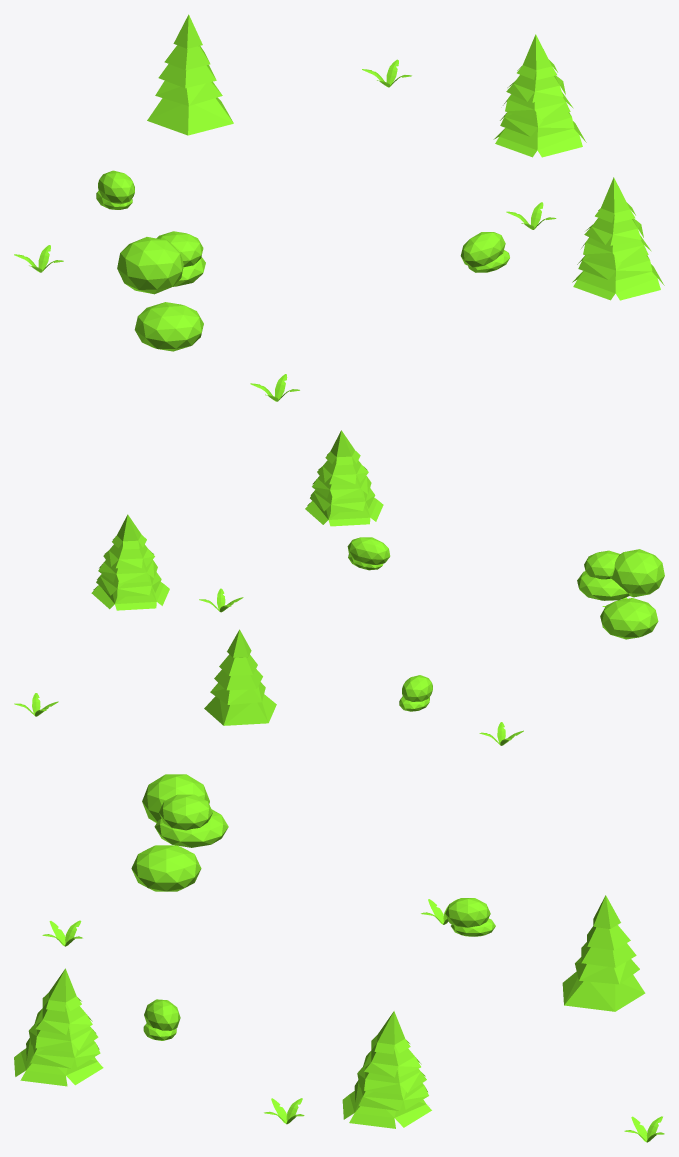
Rendered from bushes.obj.
The picture shows the model from 3 angles, top to bottom: view 1: azimuth 30°, elevation 25°; view 2: azimuth 150°, elevation 25°; view 3: azimuth 270°, elevation 25°; orthographic projection. The views are drawn at different scales.
Parts seen in each view (by area): view 1: Cone.002, Cone.004, Cone, Icosphere.003, Icosphere, Icosphere.005, Icosphere.007, Icosphere.002; view 2: Cone.002, Cone.004, Cone, Icosphere.003, Icosphere, Icosphere.001, Icosphere.005, Icosphere.002, Icosphere.007; view 3: Cone.002, Cone.004, Cone, Icosphere, Icosphere.003, Icosphere.002, Icosphere.001, Icosphere.007, Icosphere.005.
Boxes of the visible parts, bbox=[...] form: Cone.002: bbox=[572, 177, 664, 300]; Cone.004: bbox=[493, 34, 586, 157]; Cone: bbox=[147, 14, 233, 135]; Icosphere.003: bbox=[117, 237, 183, 294]; Icosphere: bbox=[134, 302, 203, 351]; Icosphere.005: bbox=[460, 232, 505, 267]; Icosphere.007: bbox=[98, 170, 134, 204]; Icosphere.002: bbox=[156, 231, 203, 267]; Cone.002: bbox=[305, 430, 383, 526]; Cone.004: bbox=[91, 514, 169, 610]; Cone: bbox=[204, 629, 276, 725]; Icosphere.003: bbox=[611, 549, 664, 597]; Icosphere: bbox=[600, 598, 658, 639]; Icosphere.001: bbox=[577, 571, 629, 600]; Icosphere.005: bbox=[347, 537, 390, 564]; Icosphere.002: bbox=[584, 550, 620, 579]; Icosphere.007: bbox=[402, 675, 432, 701]; Cone.002: bbox=[14, 968, 103, 1086]; Cone.004: bbox=[342, 1011, 431, 1128]; Cone: bbox=[562, 895, 645, 1011]; Icosphere: bbox=[131, 845, 201, 891]; Icosphere.003: bbox=[142, 774, 209, 822]; Icosphere.002: bbox=[159, 794, 212, 830]; Icosphere.001: bbox=[154, 809, 228, 847]; Icosphere.007: bbox=[445, 898, 490, 927]; Icosphere.005: bbox=[144, 999, 180, 1030].
Bounding box in the file's own units: 41.8 × 10.1 × 42.24.
